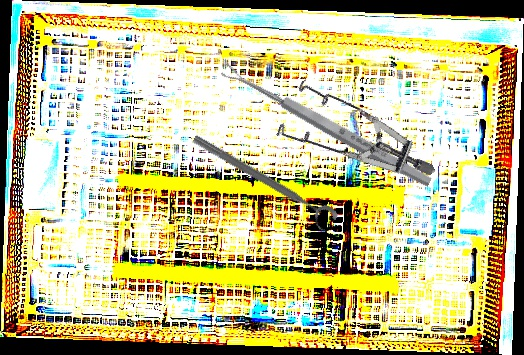Fixation Ring: (185, 130, 340, 236)
Speculum: (259, 46, 437, 234)
Surgical Spoon: (220, 61, 434, 190)
